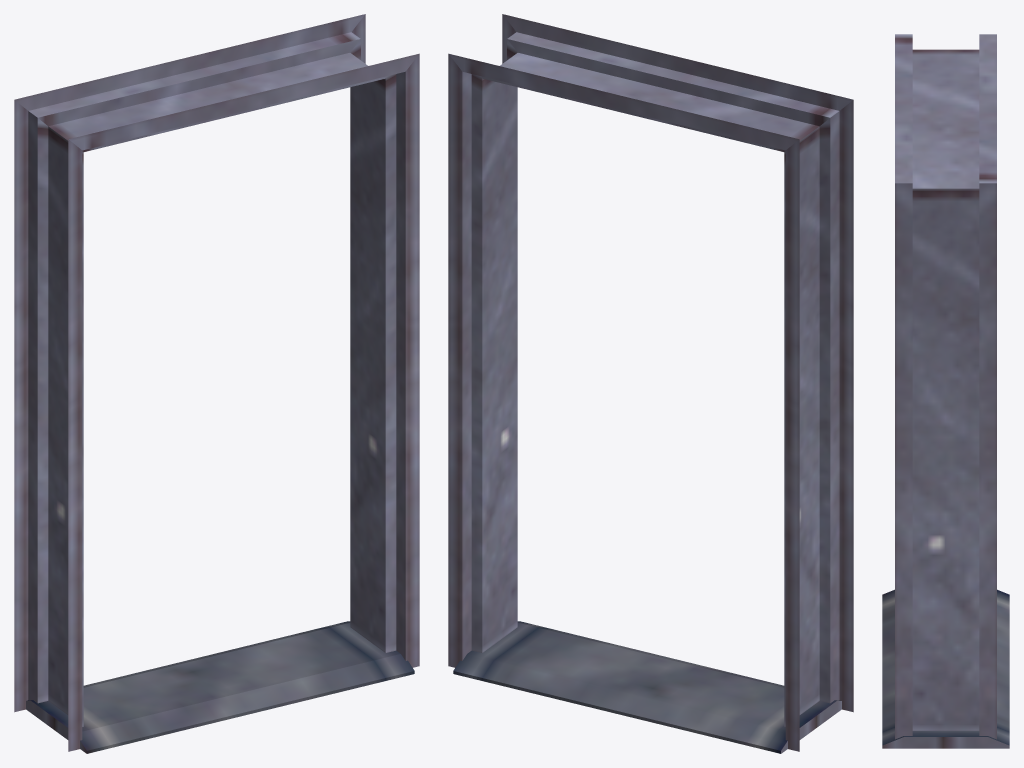
Rendered from SM_BLD_FRAME_01.fbx.
3 views of the same model, side by side, from view 1: azimuth 30°, elevation 25°; view 2: azimuth 150°, elevation 25°; view 3: azimuth 270°, elevation 25° (orthographic). The views are drawn at different scales.
Parts seen in each view (by area): view 1: SM_BLD_FRAME_01; view 2: SM_BLD_FRAME_01; view 3: SM_BLD_FRAME_01.
Part boxes in pixels (x1=…): SM_BLD_FRAME_01: x1=14, y1=14, x2=419, y2=753; SM_BLD_FRAME_01: x1=448, y1=14, x2=853, y2=753; SM_BLD_FRAME_01: x1=882, y1=34, x2=1009, y2=748.
Size of the model in its own units: 1.5 by 2.5 by 0.5.
